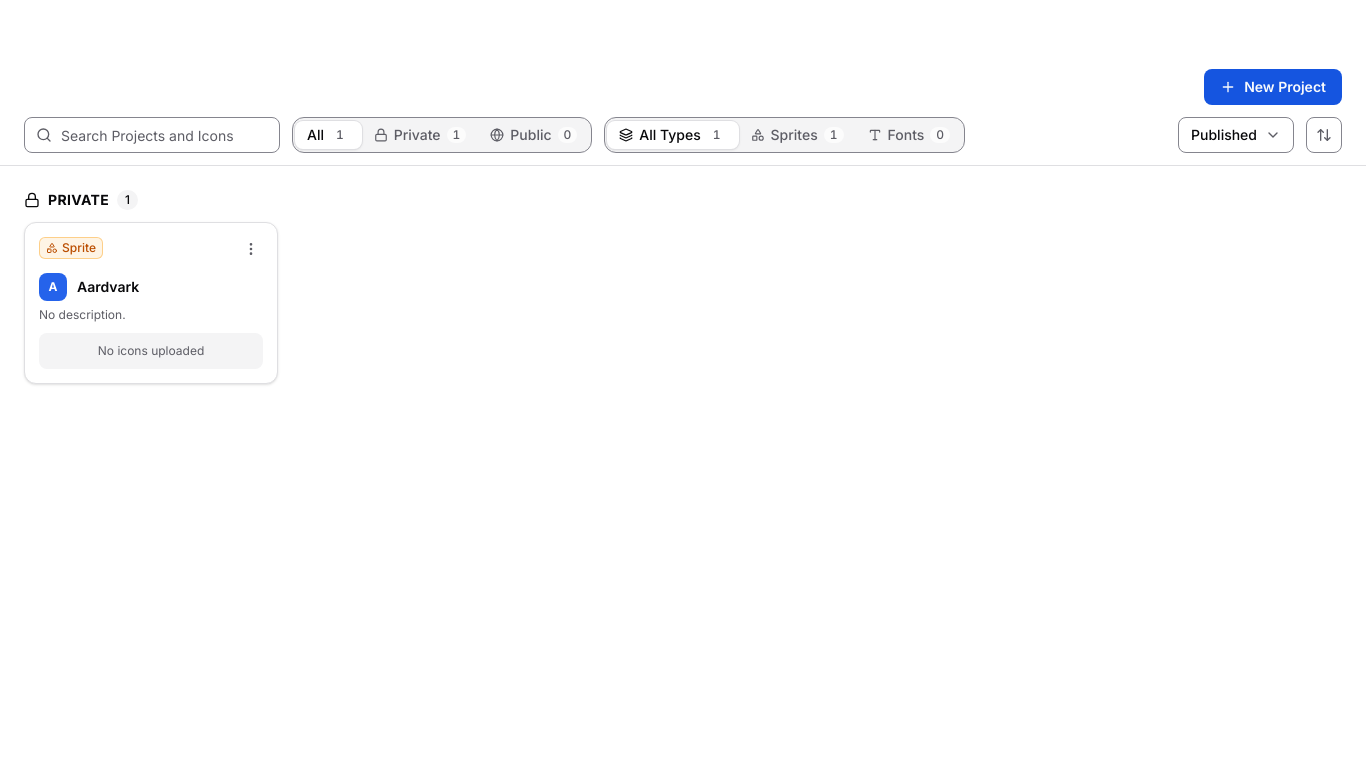
Test: search › keeps the separate sections when only one of them is empty
Type "aa" into the search field at (152, 135), box [24, 117, 280, 153]
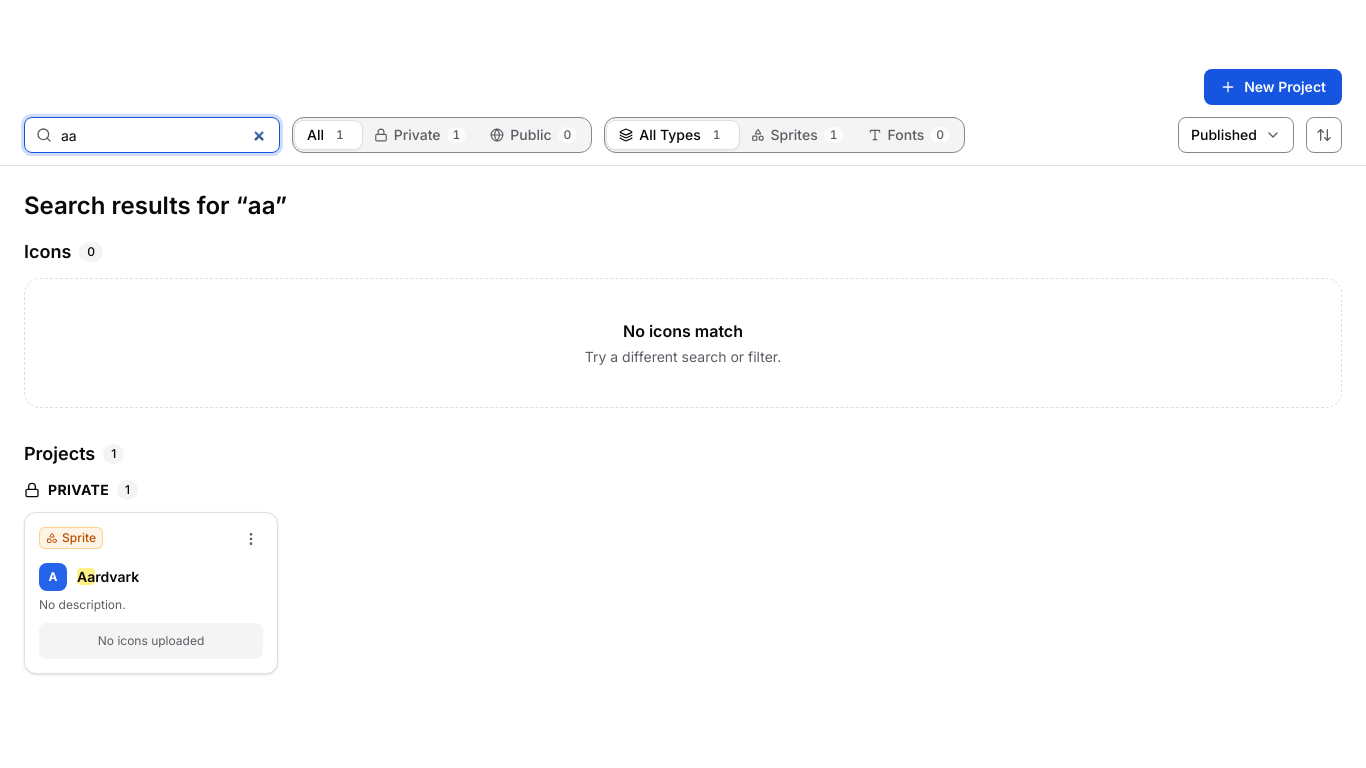
Expected: the text "No icons match" is shown, [623, 321, 743, 341]
Expected: the heading "Projects 1" is shown, [24, 443, 124, 464]
